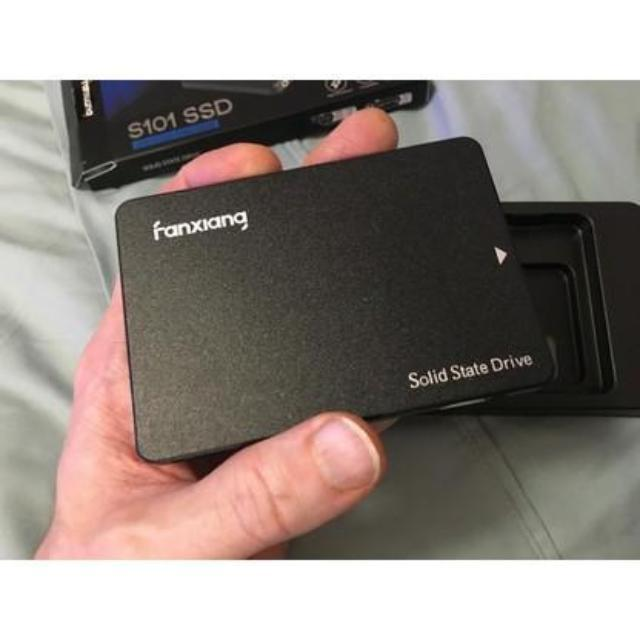DISK: (113, 130, 564, 470)
